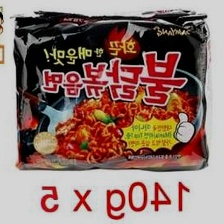snack: (6, 3, 217, 177)
